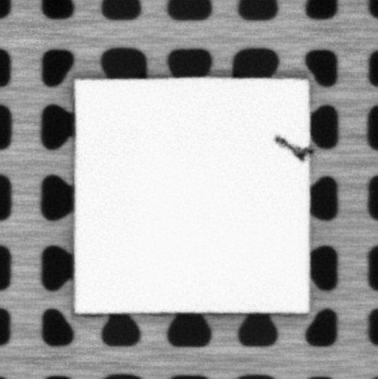DIE_INK: (273, 135, 310, 162)
